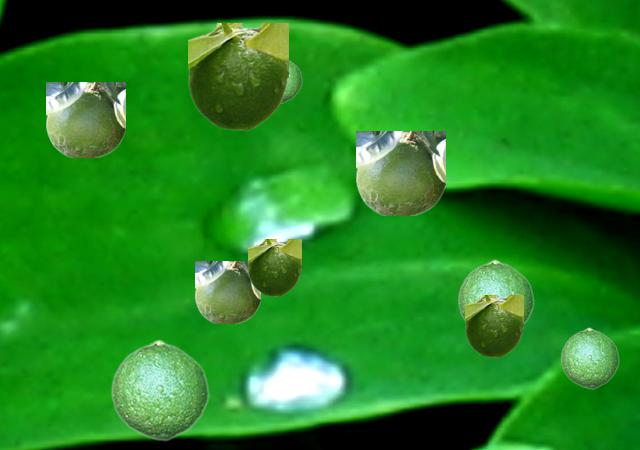dalandan: (188, 23, 287, 129), (110, 339, 208, 440), (356, 131, 444, 214), (46, 82, 124, 156), (457, 259, 533, 326), (195, 261, 259, 322), (560, 327, 618, 388), (465, 295, 522, 356), (248, 239, 300, 295), (283, 59, 301, 102)
